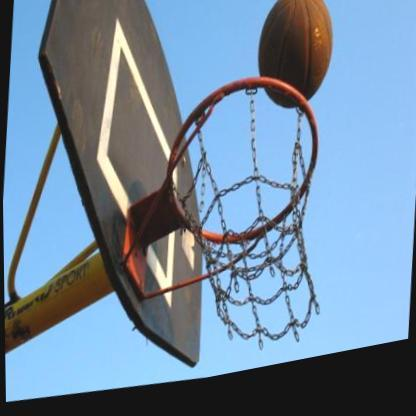basketball: (252, 0, 340, 131)
